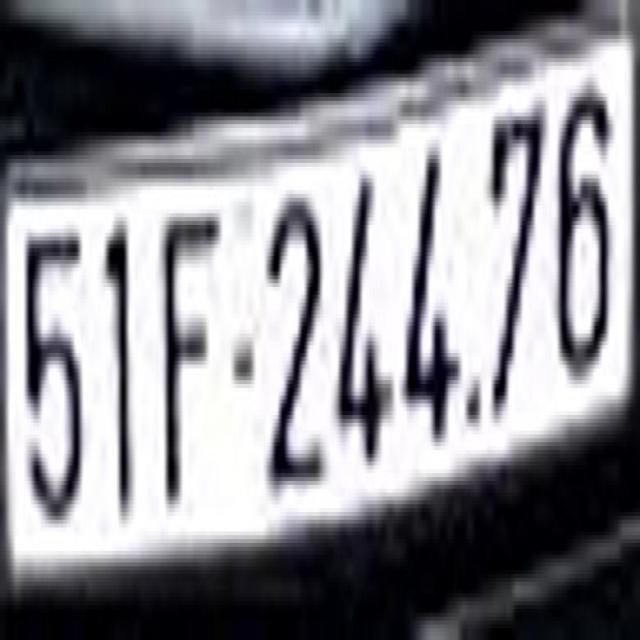1: (101, 206, 130, 508)
2: (265, 198, 322, 478)
4: (339, 167, 387, 454), (406, 152, 451, 434)
5: (20, 229, 83, 512)
6: (554, 89, 616, 380)
7: (489, 97, 541, 411)
F: (160, 206, 222, 508)
